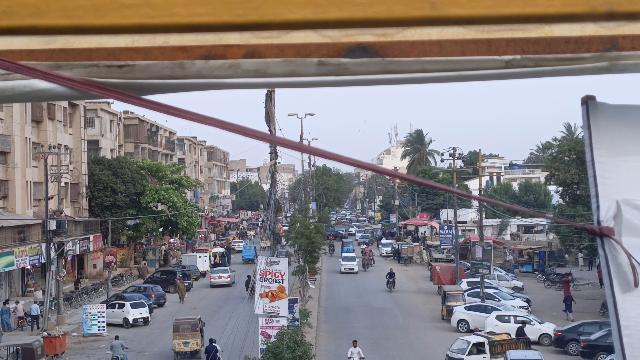Bike: (385, 277, 397, 293), (245, 285, 256, 299)
Car: (484, 309, 555, 346), (449, 300, 518, 331), (552, 320, 611, 353), (467, 288, 529, 311), (144, 268, 196, 293), (106, 299, 151, 327), (578, 327, 615, 359), (126, 283, 168, 306), (208, 265, 237, 288), (336, 252, 360, 274)
Person: (203, 334, 223, 359), (27, 300, 43, 331), (562, 290, 578, 321), (343, 338, 367, 358), (109, 334, 127, 357), (174, 277, 188, 304), (0, 301, 11, 329), (386, 266, 397, 278), (245, 273, 254, 286)
Rickshaw: (170, 315, 206, 360), (440, 282, 467, 322)
Suzuki: (442, 332, 530, 360)
Truck: (177, 252, 211, 276)
